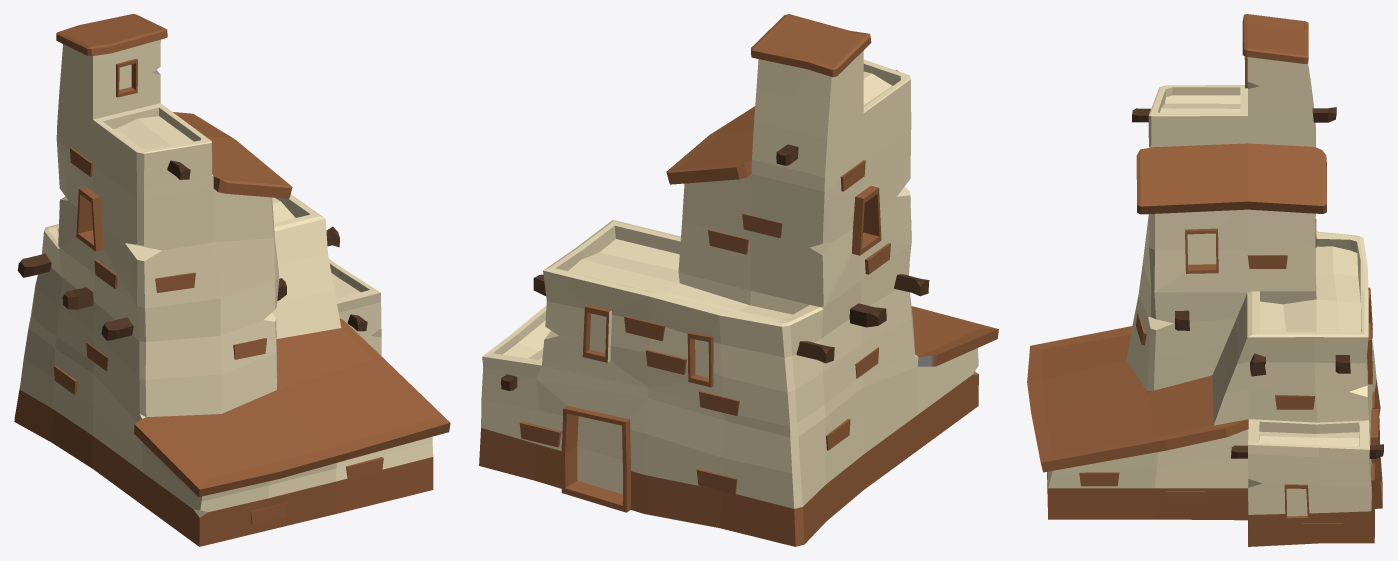
The model's file is House_1.fbx.
3 views of the same model, side by side, from view 1: azimuth 30°, elevation 25°; view 2: azimuth 150°, elevation 25°; view 3: azimuth 270°, elevation 25° (orthographic). The views are drawn at different scales.
Parts seen in each view (by area): view 1: House_1; view 2: House_1; view 3: House_1.
Boxes of the visible parts, x1,y1,x2,y2 form: House_1: (14, 14, 450, 546); House_1: (479, 14, 998, 546); House_1: (1027, 14, 1383, 546).
Bounding box in the file's own units: 403 × 525 × 422.
